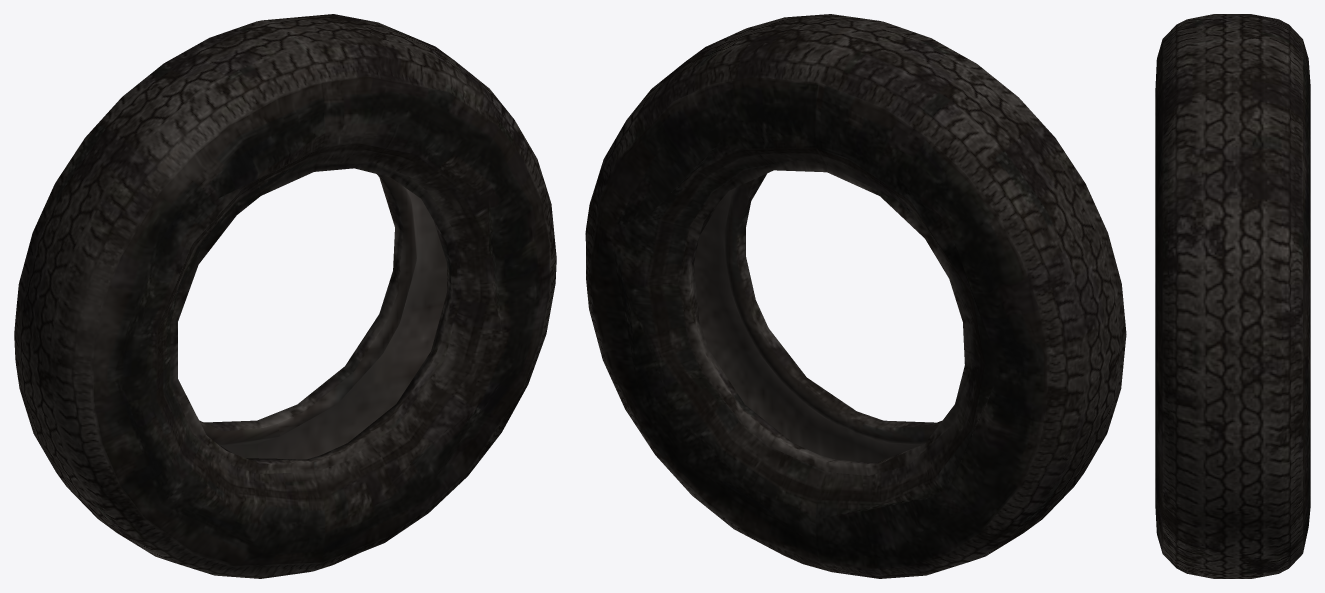
3 views of the same model, side by side, from view 1: azimuth 30°, elevation 25°; view 2: azimuth 150°, elevation 25°; view 3: azimuth 270°, elevation 25° (orthographic). The views are drawn at different scales.
Parts seen in each view (by area): view 1: old_tyre; view 2: old_tyre; view 3: old_tyre.
Part boxes in pixels (bbox=[...]): old_tyre: bbox=[14, 14, 556, 578]; old_tyre: bbox=[585, 14, 1126, 578]; old_tyre: bbox=[1155, 14, 1310, 578].
Bounding box in the file's own units: 0.6 × 0.6 × 0.165.
1 material, 1 textured.
